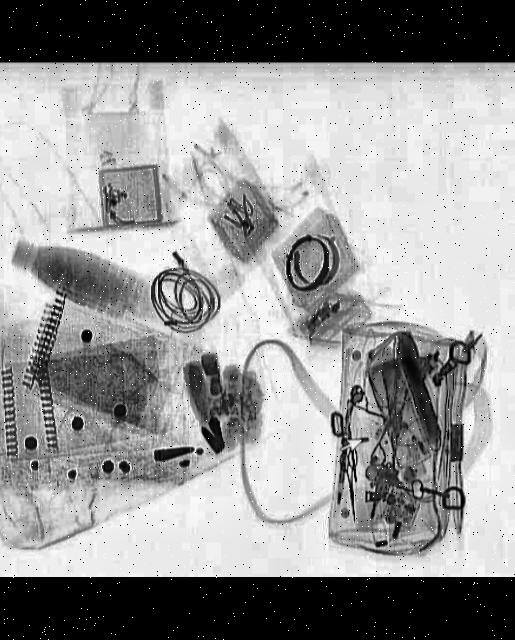Scissors: (338, 444, 366, 523)
